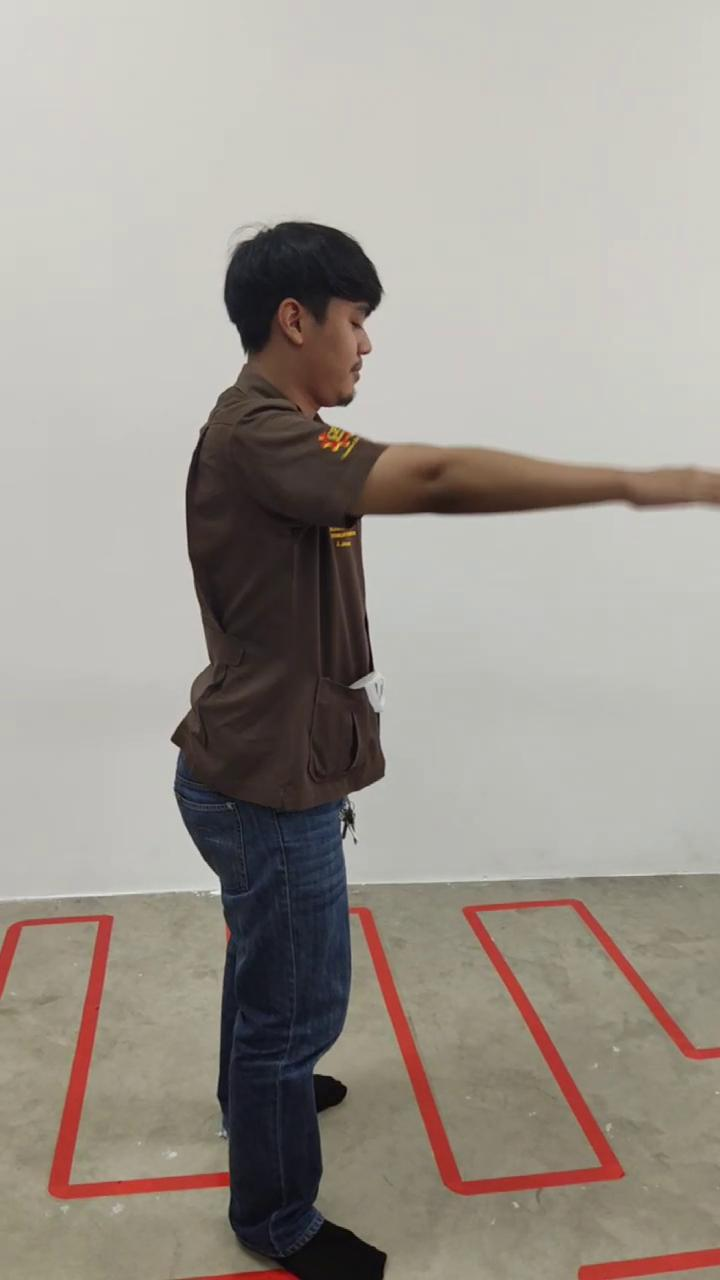squat up: (175, 222, 718, 1280)
